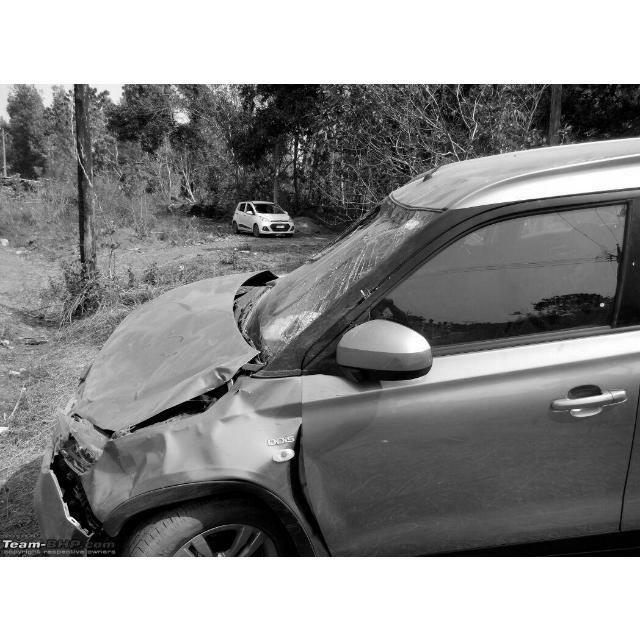Front-windscreen-damage: (246, 202, 444, 353)
Headlight-damage: (47, 419, 116, 472)
bonnet-dent: (86, 268, 274, 426)
fender-dent: (93, 376, 315, 541)
front-bumper-dent: (39, 472, 102, 549)
roof-dent: (387, 160, 524, 206)
